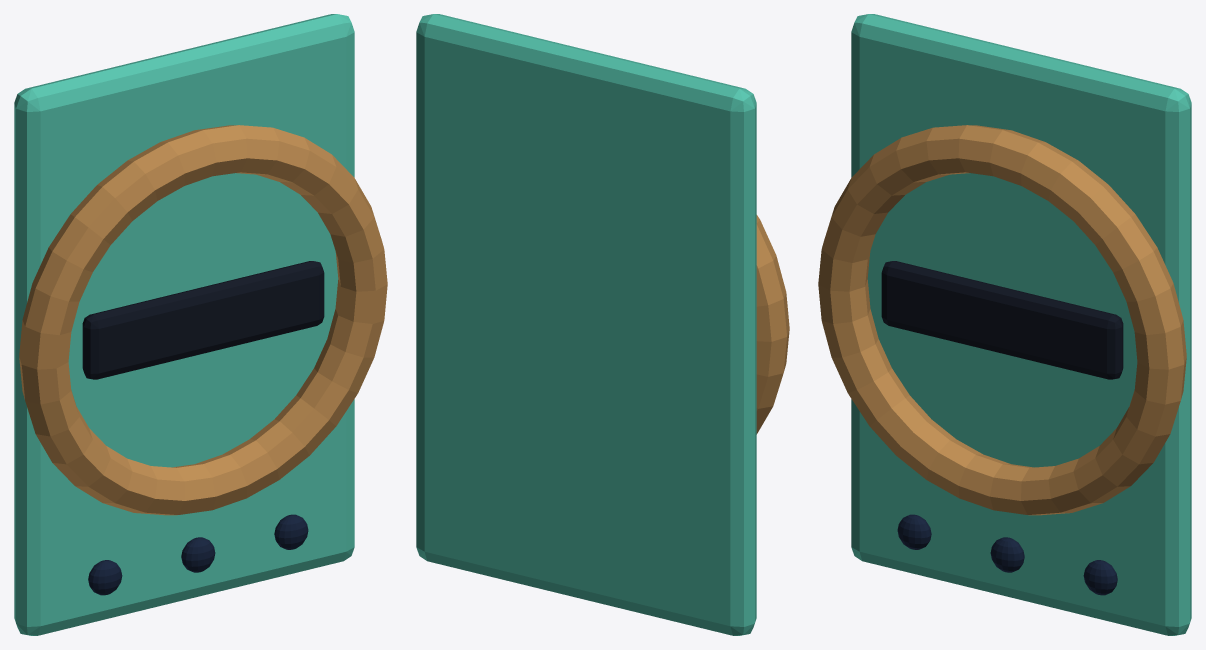
Rendered from Item_stop_loss.fbx.
3 views of the same model, side by side, from view 1: azimuth 30°, elevation 25°; view 2: azimuth 150°, elevation 25°; view 3: azimuth 330°, elevation 25° (orthographic).
Parts seen in each view (by area): view 1: Item_stop_loss.Mesh; view 2: Item_stop_loss.Mesh; view 3: Item_stop_loss.Mesh.
Part boxes in pixels (x1,y1,x2,y2): Item_stop_loss.Mesh: (14, 14, 387, 635); Item_stop_loss.Mesh: (416, 14, 789, 635); Item_stop_loss.Mesh: (818, 14, 1191, 635).
Bounding box in the file's own units: 41 × 59 × 7.95.
